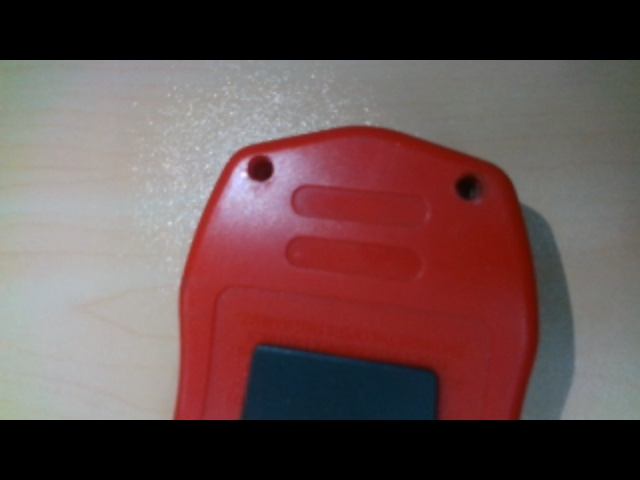Screw holes: (454, 169, 489, 204), (244, 152, 277, 183)
